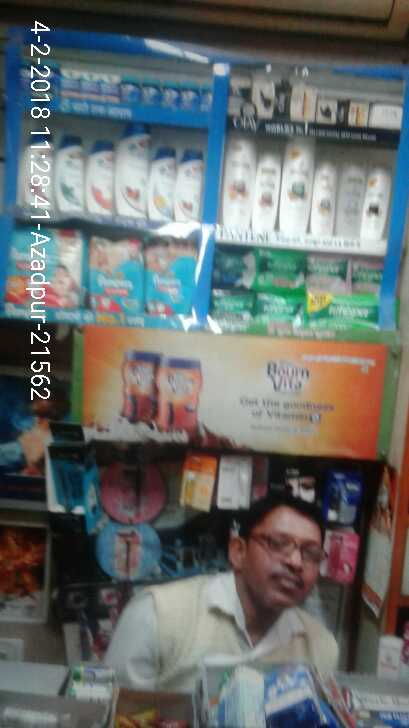vicks: (50, 67, 209, 111)
